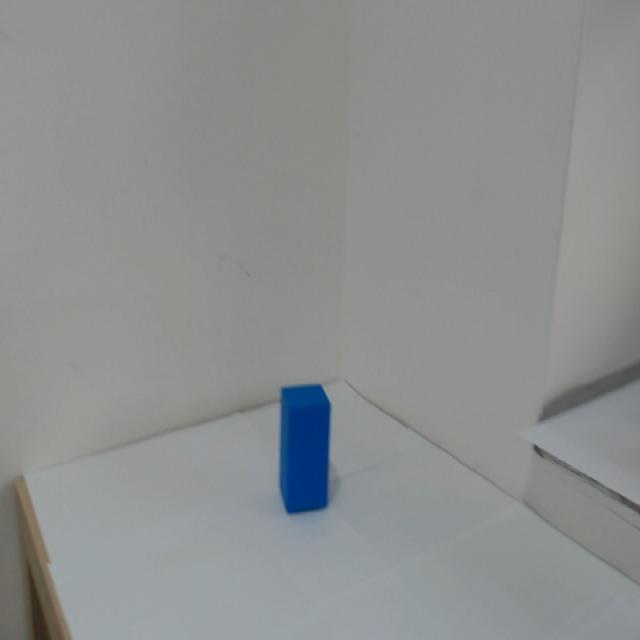cube: (265, 380, 365, 542)
